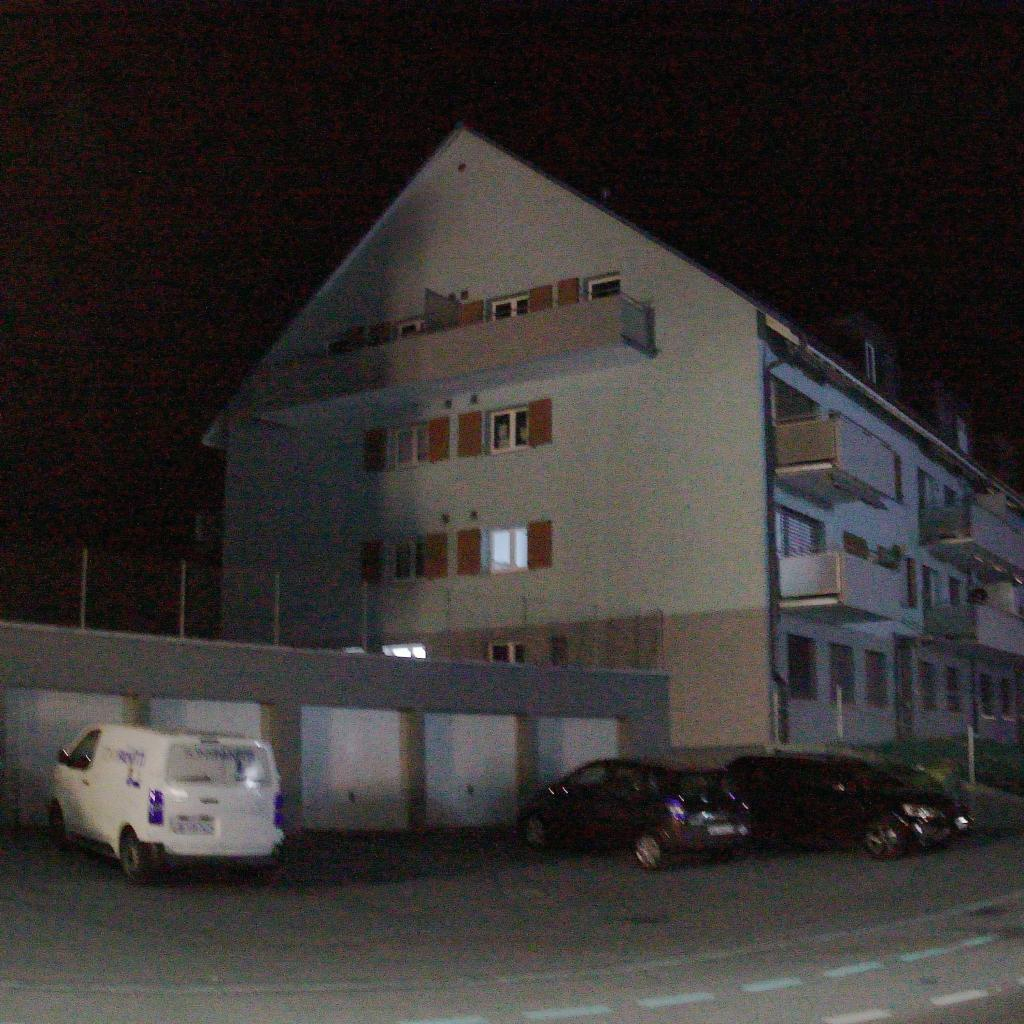balcony-fence: (771, 411, 903, 494), (918, 495, 1024, 569), (774, 539, 903, 570), (922, 594, 1024, 620)
car: (42, 720, 285, 882), (514, 756, 753, 871), (729, 751, 973, 863)
facade: (199, 118, 1024, 746)
fence: (0, 528, 667, 676), (770, 674, 1024, 800)
shop: (0, 624, 764, 831)
street: (2, 825, 1024, 1024)
window: (773, 502, 822, 555), (488, 406, 530, 455), (487, 526, 528, 574), (788, 635, 818, 699), (830, 642, 856, 705), (388, 538, 425, 582), (394, 424, 430, 467), (865, 649, 890, 709), (917, 661, 937, 711), (492, 294, 529, 321), (917, 467, 939, 506), (588, 274, 620, 300), (946, 667, 963, 712), (922, 565, 940, 606), (844, 531, 869, 559), (979, 674, 994, 716), (864, 339, 877, 385), (956, 415, 970, 455), (1001, 679, 1014, 716), (397, 319, 425, 336), (948, 575, 960, 607), (943, 484, 956, 505)
